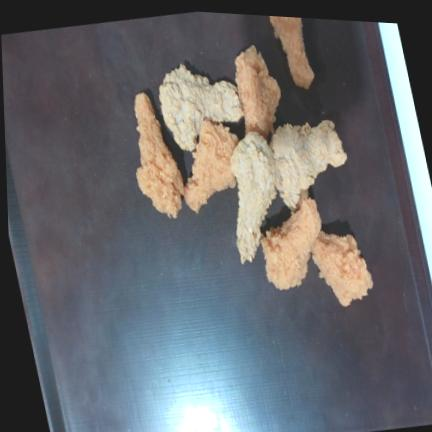chicken: (159, 64, 243, 151), (270, 120, 347, 210), (134, 93, 184, 217), (231, 132, 276, 264), (261, 199, 321, 289), (184, 121, 237, 213), (312, 231, 373, 305), (235, 45, 280, 140), (269, 16, 314, 89)
